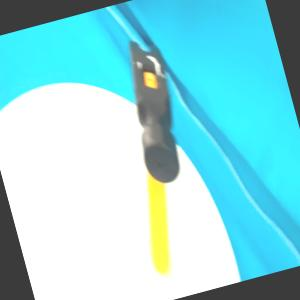martelo: (90, 30, 220, 284)
